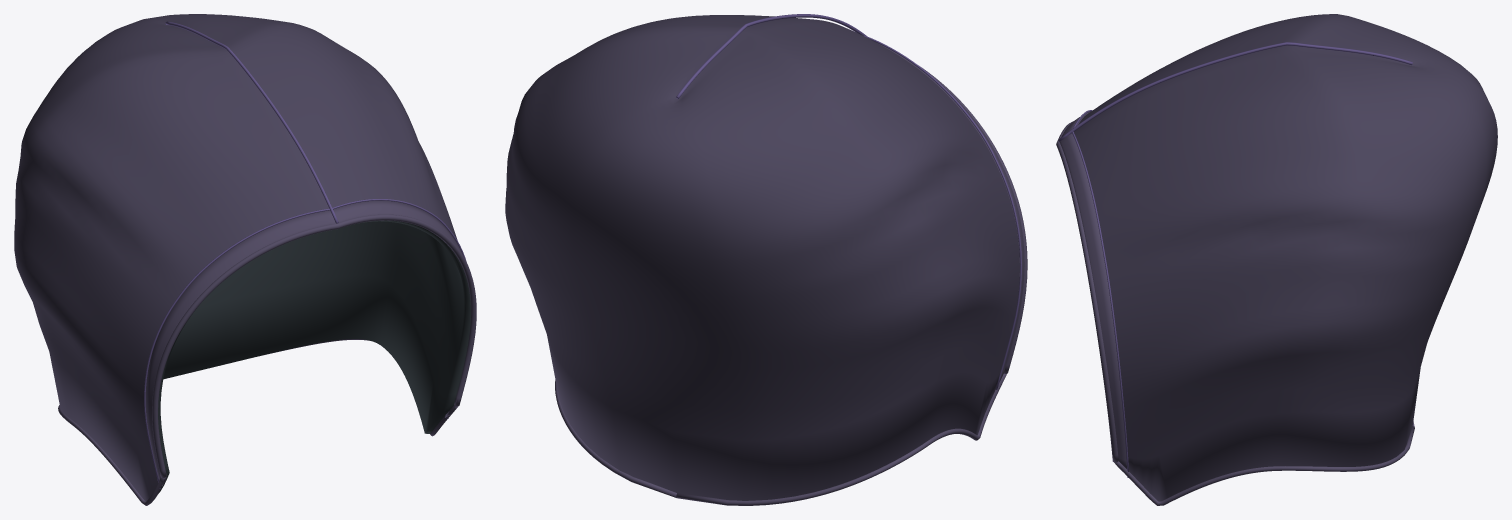
Rendered from shadow-hood.glb.
3 views of the same model, side by side, from view 1: azimuth 30°, elevation 25°; view 2: azimuth 150°, elevation 25°; view 3: azimuth 270°, elevation 25° (orthographic). The views are drawn at different scales.
Parts seen in each view (by area): view 1: Continuous draped cloth hood, Folded face opening hem, Soft rolled outer lip, Inset stitched hem line, Tailored crown seam, Soft lower cloth edge; view 2: Continuous draped cloth hood, Soft lower cloth edge, Folded face opening hem, Soft rolled outer lip, Inset stitched hem line, Tailored crown seam, Soft lower cloth edge.001; view 3: Continuous draped cloth hood, Folded face opening hem, Soft rolled outer lip, Soft lower cloth edge.001, Tailored crown seam, Inset stitched hem line.
Boxes of the visible parts, x1=… form: Continuous draped cloth hood: x1=14, y1=14, x2=470, y2=501; Folded face opening hem: x1=145, y1=200, x2=470, y2=486; Soft rolled outer lip: x1=152, y1=214, x2=476, y2=477; Inset stitched hem line: x1=144, y1=199, x2=466, y2=489; Tailored crown seam: x1=165, y1=21, x2=338, y2=223; Soft lower cloth edge: x1=58, y1=405, x2=165, y2=505; Continuous draped cloth hood: x1=505, y1=15, x2=1019, y2=500; Soft lower cloth edge: x1=676, y1=373, x2=1006, y2=505; Folded face opening hem: x1=878, y1=43, x2=1024, y2=381; Soft rolled outer lip: x1=920, y1=66, x2=1027, y2=373; Inset stitched hem line: x1=864, y1=35, x2=1021, y2=389; Tailored crown seam: x1=676, y1=14, x2=866, y2=98; Soft lower cloth edge.001: x1=555, y1=380, x2=676, y2=497; Continuous draped cloth hood: x1=1074, y1=14, x2=1497, y2=501; Folded face opening hem: x1=1059, y1=112, x2=1126, y2=471; Soft rolled outer lip: x1=1056, y1=121, x2=1118, y2=462; Soft lower cloth edge.001: x1=1114, y1=426, x2=1414, y2=505; Tailored crown seam: x1=1058, y1=42, x2=1412, y2=141; Inset stitched hem line: x1=1072, y1=110, x2=1128, y2=477.
Bounding box in the file's own units: 0.8073 × 0.7576 × 0.7755.
